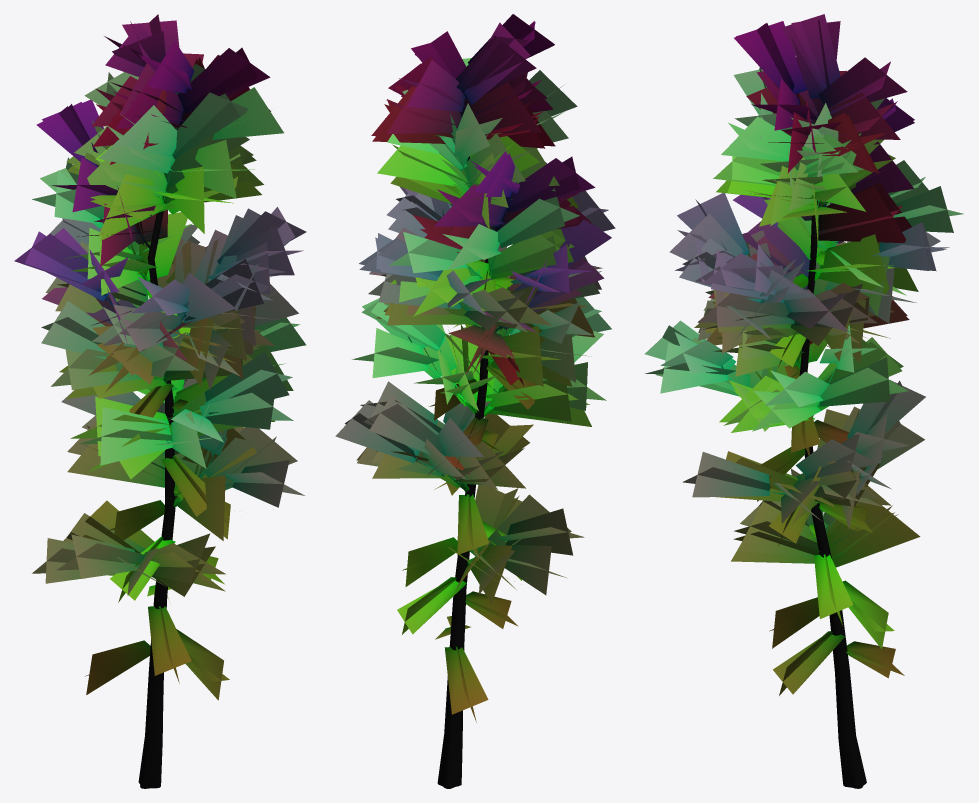
Rendered from M_Realistic21_6.fbx.
The picture shows the model from 3 angles, left to right: view 1: azimuth 30°, elevation 25°; view 2: azimuth 150°, elevation 25°; view 3: azimuth 270°, elevation 25°; orthographic projection. The views are drawn at different scales.
Parts seen in each view (by area): view 1: Tree_6; view 2: Tree_6; view 3: Tree_6.
Part boxes in pixels (x1,y1,x2,y2): Tree_6: (14,14,306,788); Tree_6: (335,14,615,788); Tree_6: (644,14,963,788).
Bounding box in the file's own units: 1040 × 3001 × 1156.
